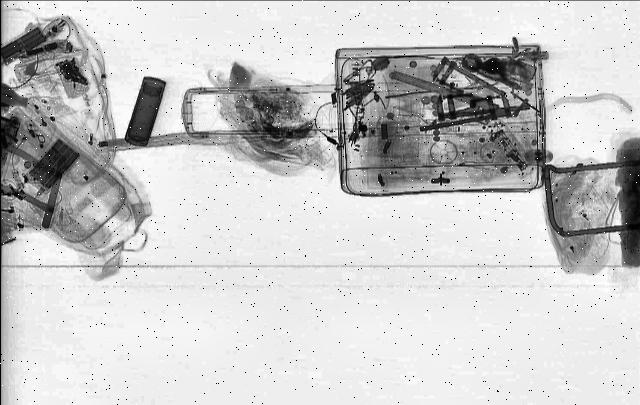Pliers: (470, 60, 530, 94)
